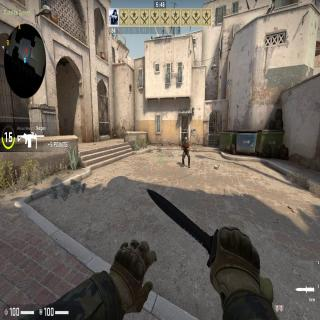T-Body: (181, 135, 191, 167)
T-Head: (184, 136, 188, 144)
